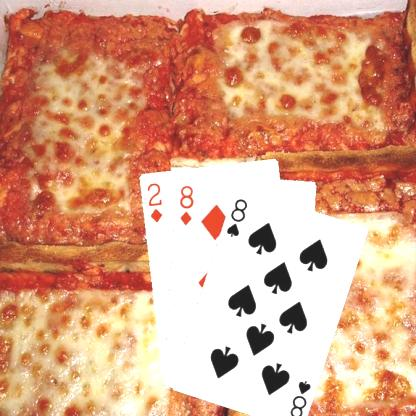2D: (144, 180, 164, 224)
8D: (177, 182, 195, 227)
8S: (223, 195, 249, 238), (287, 377, 312, 416)
